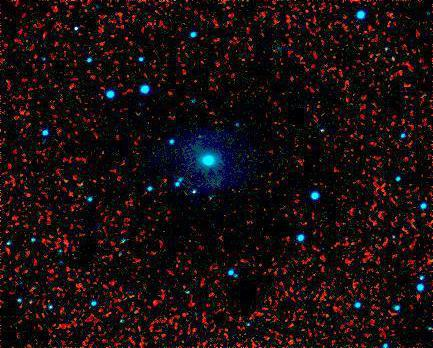star: (186, 122, 216, 152)
